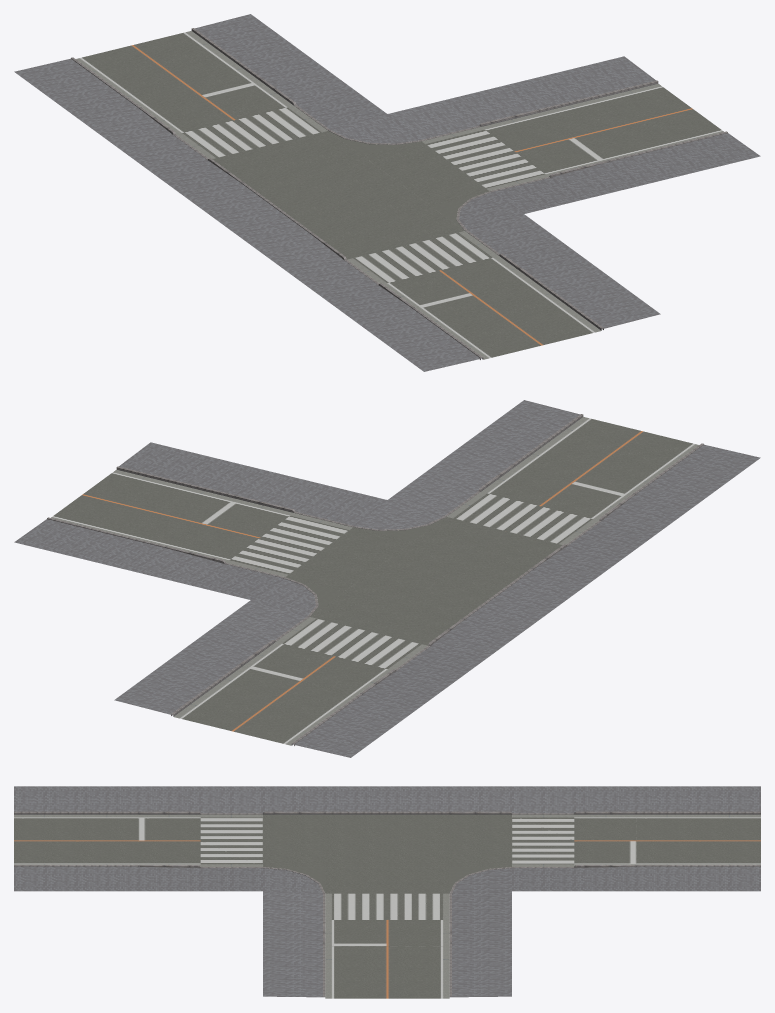
File: T-Junction.fbx
3 views of the same model, one above another, from view 1: azimuth 30°, elevation 25°; view 2: azimuth 150°, elevation 25°; view 3: azimuth 270°, elevation 25° (orthographic). The views are drawn at different scales.
Parts seen in each view (by area): view 1: 500_sidewalk_w4m.002, 092_asphalt_center, 500_sidewalk_w4m.001, 500_sidewalk_w4m, 002_roadway_8x16m, 002_roadway_8x16m.002, 002_roadway_8x16m.001, 100_curb.001, 100_curb.002, 100_curb; view 2: 500_sidewalk_w4m.002, 092_asphalt_center, 500_sidewalk_w4m, 500_sidewalk_w4m.001, 002_roadway_8x16m.002, 002_roadway_8x16m, 002_roadway_8x16m.001, 100_curb, 100_curb.002, 100_curb.001; view 3: 500_sidewalk_w4m.002, 092_asphalt_center, 500_sidewalk_w4m.001, 500_sidewalk_w4m, 002_roadway_8x16m.001, 002_roadway_8x16m.002, 002_roadway_8x16m, 100_curb.002, 100_curb, 100_curb.001.
Part boxes in pixels (<box>): 500_sidewalk_w4m.002: <box>14,58,482,371</box>; 092_asphalt_center: <box>212,131,489,259</box>; 500_sidewalk_w4m.001: <box>195,14,655,143</box>; 500_sidewalk_w4m: <box>459,133,760,329</box>; 002_roadway_8x16m: <box>347,231,601,359</box>; 002_roadway_8x16m.002: <box>76,31,327,158</box>; 002_roadway_8x16m.001: <box>422,83,723,190</box>; 100_curb.001: <box>191,28,658,144</box>; 100_curb.002: <box>71,57,483,359</box>; 100_curb: <box>456,131,727,330</box>; 500_sidewalk_w4m.002: <box>292,444,760,757</box>; 092_asphalt_center: <box>285,517,562,645</box>; 500_sidewalk_w4m: <box>119,400,579,529</box>; 500_sidewalk_w4m.001: <box>14,519,315,715</box>; 002_roadway_8x16m.002: <box>173,617,427,745</box>; 002_roadway_8x16m: <box>447,417,698,544</box>; 002_roadway_8x16m.001: <box>51,469,352,576</box>; 100_curb: <box>116,414,583,530</box>; 100_curb.002: <box>291,443,703,745</box>; 100_curb.001: <box>47,517,318,716</box>; 500_sidewalk_w4m.002: <box>14,786,760,813</box>; 092_asphalt_center: <box>263,814,511,893</box>; 500_sidewalk_w4m.001: <box>450,866,760,997</box>; 500_sidewalk_w4m: <box>14,866,324,997</box>; 002_roadway_8x16m.001: <box>325,893,449,998</box>; 002_roadway_8x16m.002: <box>512,814,760,866</box>; 002_roadway_8x16m: <box>14,814,262,866</box>; 100_curb.002: <box>14,811,760,814</box>; 100_curb: <box>14,865,325,996</box>; 100_curb.001: <box>449,865,760,996</box>.
Size of the model in its own units: 32 by 0.15 by 48.
